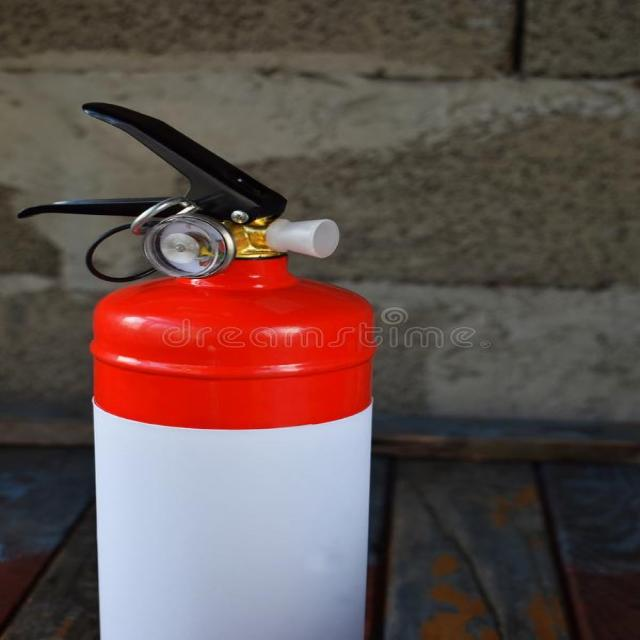fire_extinguisher: (9, 96, 380, 639)
